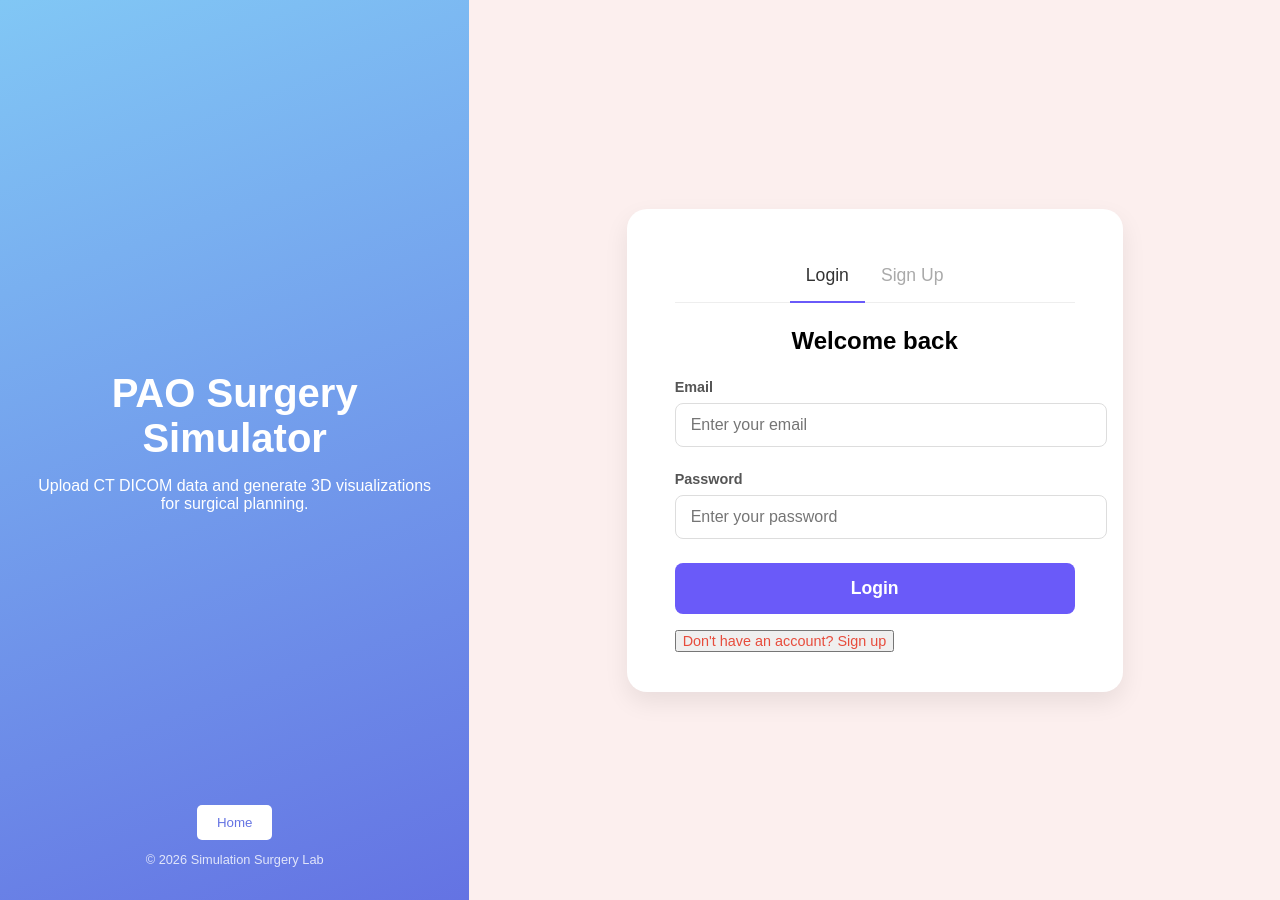
Test: unverified login shows verification message and resend action
Type "unverified@example.com" into the field with placeholder "Enter your email" at (891, 424), box [675,402,1107,446]
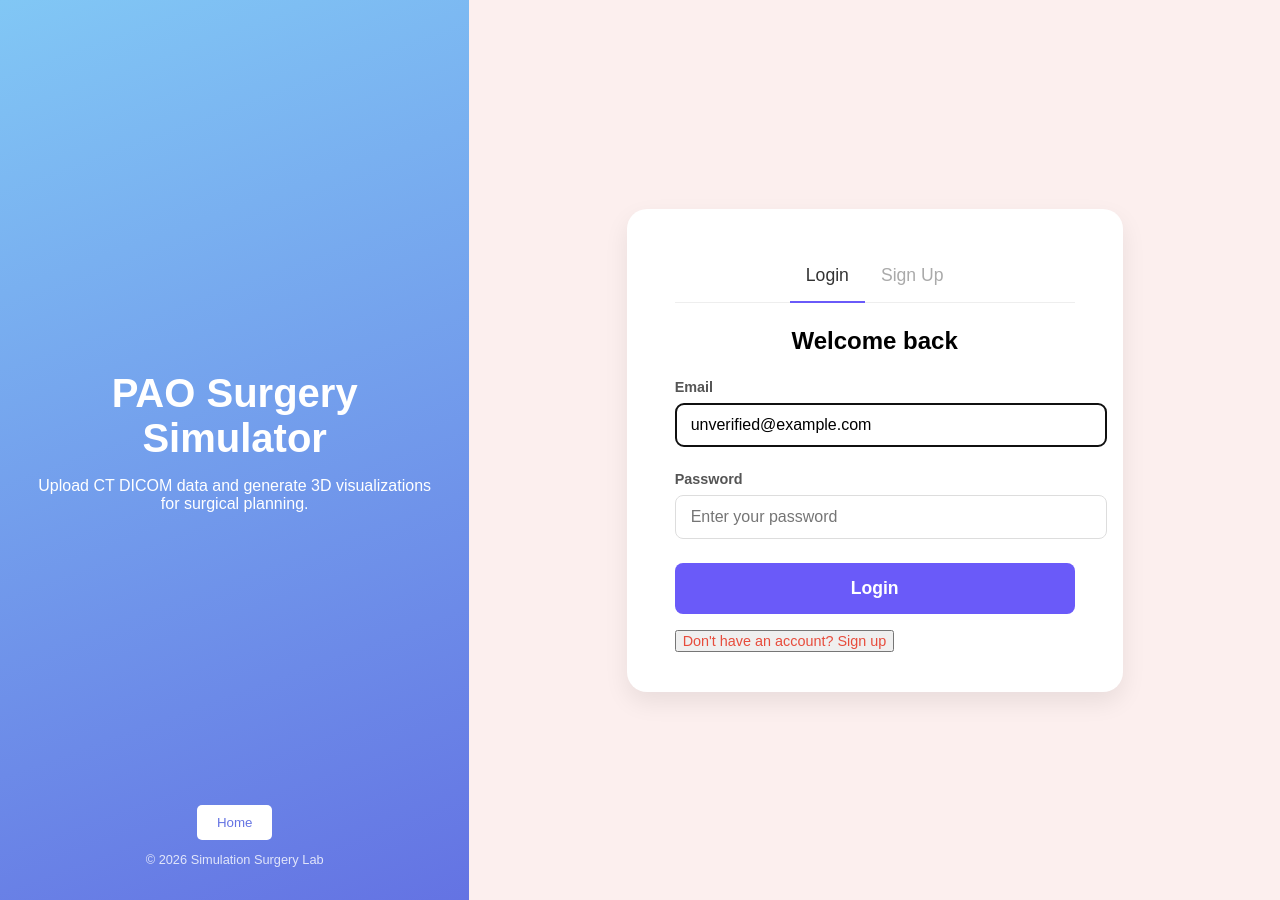
Type "password123" into the password field with placeholder "Enter your password" at (891, 516), box [675,494,1107,538]
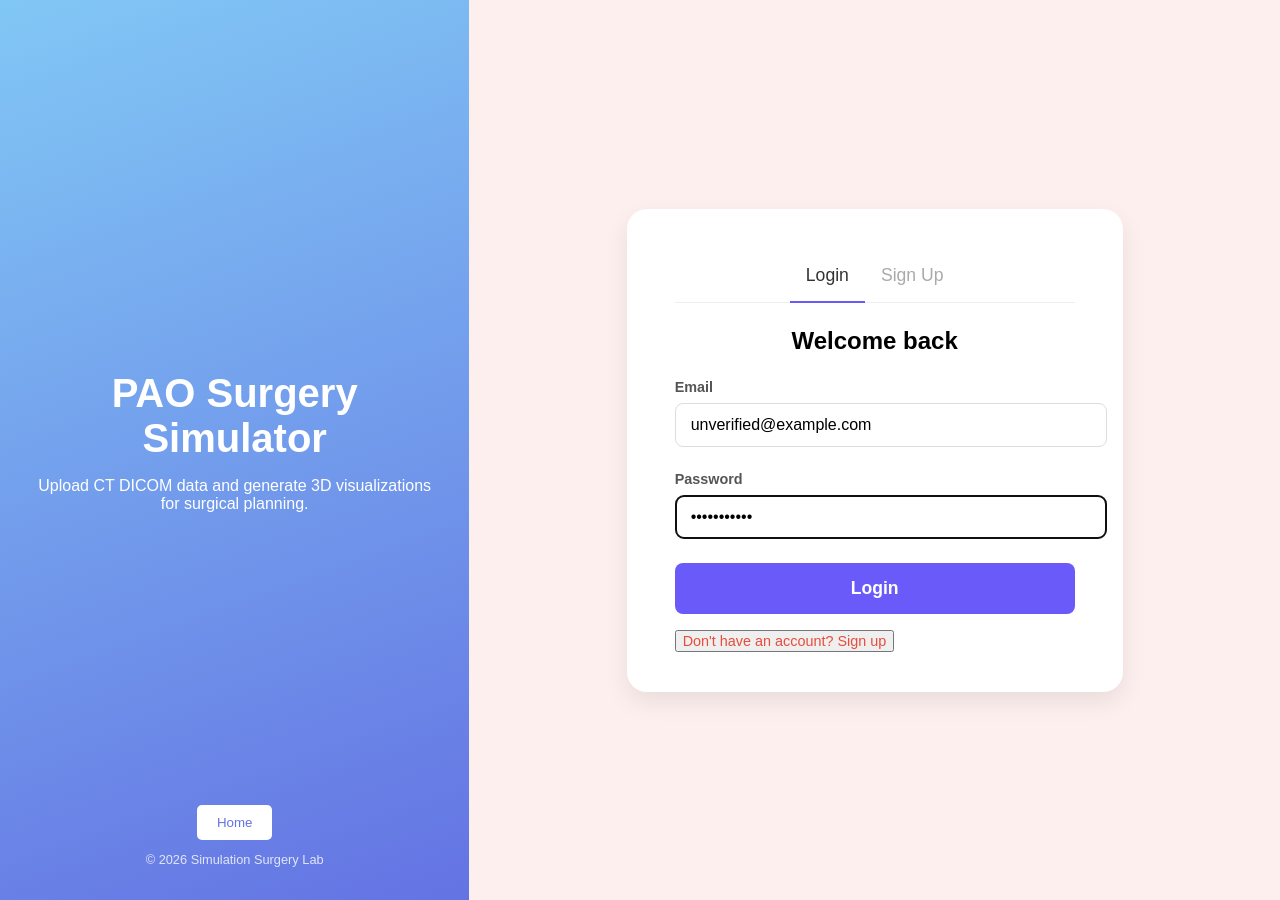
Click the button with class "submit-btn" at (875, 588), box [675,562,1075,614]
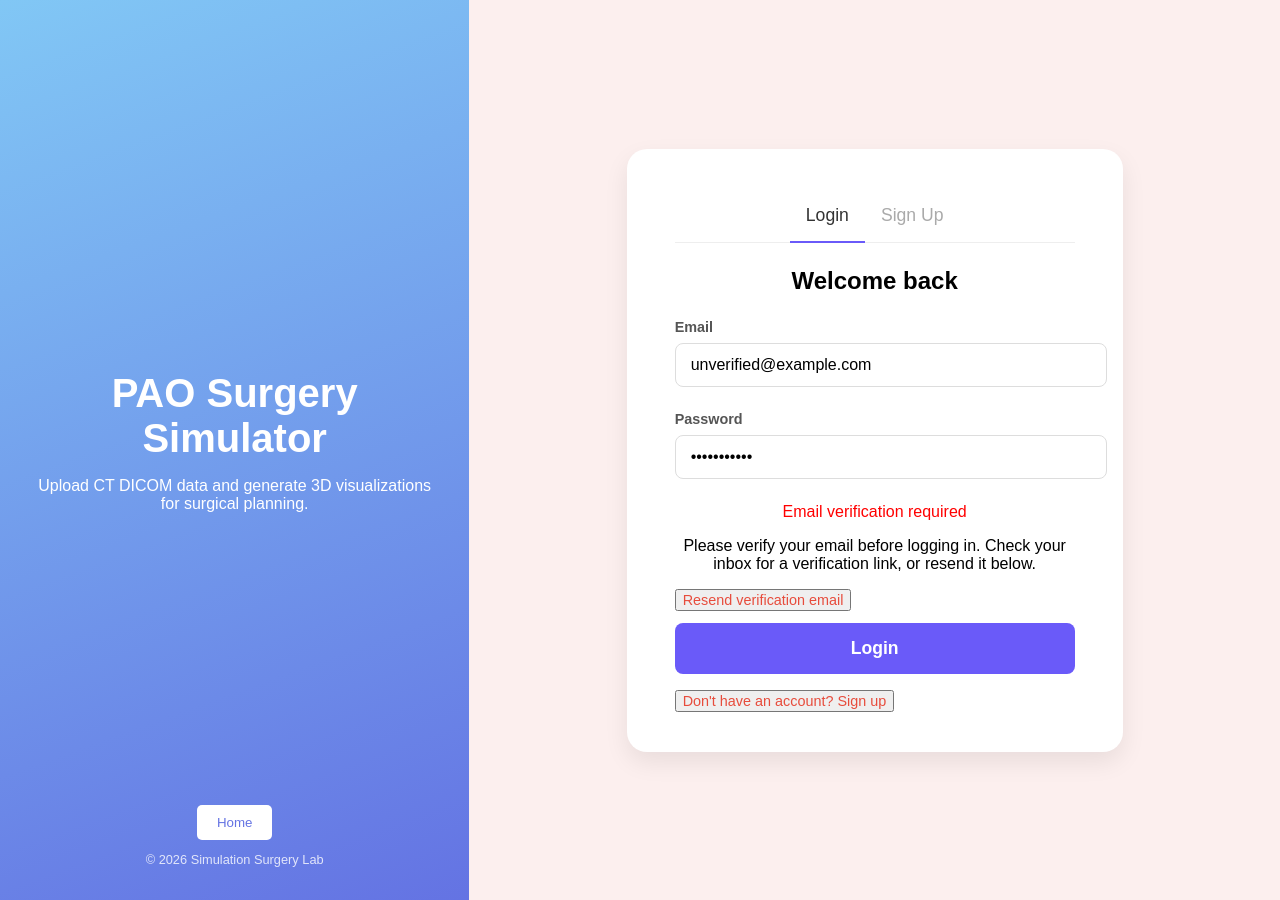
Expected: the text "Email verification required" is shown, [783,502,967,520]
Expected: the text "verify your email before logging in" is shown, [683,536,1066,572]
Expected: the button "Resend verification email" is shown, [675,588,852,610]
